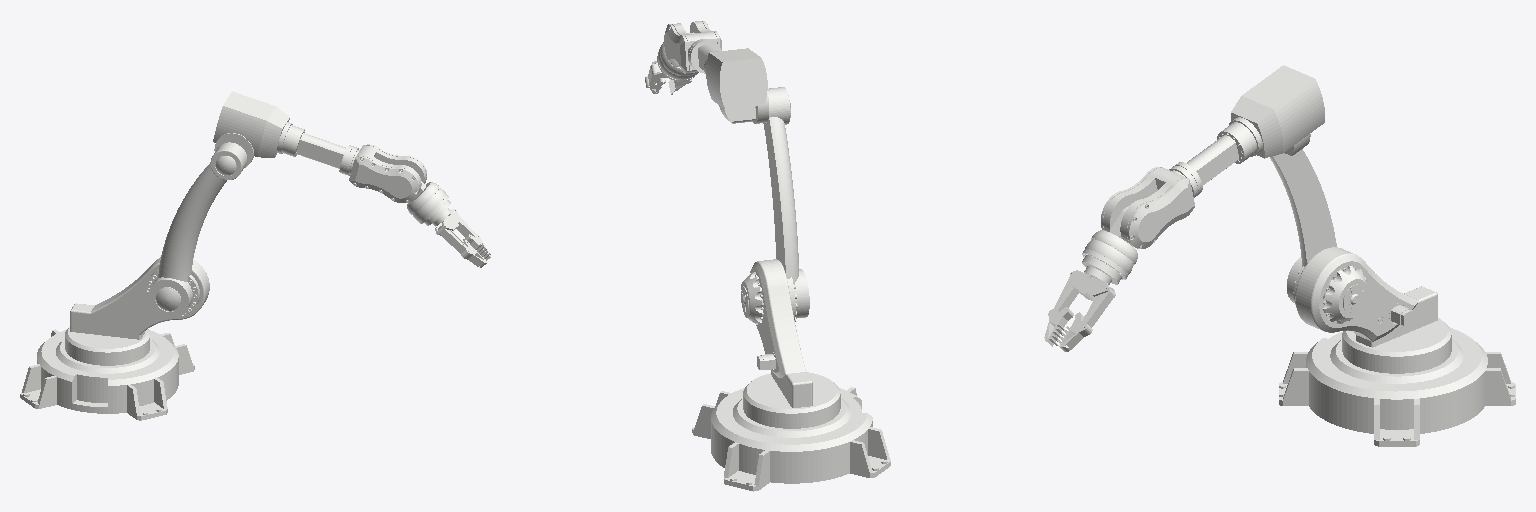
URDF robot description (robotic_arm):
<?xml version="1.0"?>
<robot name="robotic_arm">

  <!-- Materials -->
  <material name="ABS_Plastic">
    <color rgba="0.965 0.965 0.953 1.0"/>
  </material>

  <link name="base_link">
    <inertial>
      <origin xyz="0.795447 0.614307 -0.087295" rpy="0 0 0"/>
      <mass value="6.119698"/>
      <inertia ixx="3.870592e-02" ixy="8.476438e-04" ixz="-4.377918e-05"
               iyy="3.870592e-02" iyz="-4.377918e-05" izz="7.067362e-02"/>
    </inertial>
    <visual>
      <origin xyz="0.000000 0.000000 0.000000" rpy="0 0 0"/>
      <geometry>
        <mesh filename="package://robotic_arm_description/meshes/robotic_arm/base_link.dae" scale="1 1 1"/>
      </geometry>
      <material name="ABS_Plastic"/>
    </visual>
    <collision>
      <origin xyz="0.000000 0.000000 0.000000" rpy="0 0 0"/>
      <geometry>
        <mesh filename="package://robotic_arm_description/meshes/robotic_arm/base_link_collision.stl" scale="0.01 0.01 0.01"/>
      </geometry>
    </collision>
  </link>

  <link name="JAW">
    <inertial>
      <origin xyz="0.059058 0.084791 -0.003955" rpy="0 0 0"/>
      <mass value="2.532640"/>
      <inertia ixx="1.314744e-02" ixy="-1.001874e-02" ixz="6.590987e-04"
               iyy="1.786158e-02" iyz="5.945330e-04" izz="2.615029e-02"/>
    </inertial>
    <visual>
      <origin xyz="-0.418682 -0.888702 -0.224715" rpy="0 0 0"/>
      <geometry>
        <mesh filename="package://robotic_arm_description/meshes/robotic_arm/JAW.dae" scale="1 1 1"/>
      </geometry>
      <material name="ABS_Plastic"/>
    </visual>
    <collision>
      <origin xyz="-0.418682 -0.888702 -0.224715" rpy="0 0 0"/>
      <geometry>
        <mesh filename="package://robotic_arm_description/meshes/robotic_arm/JAW_collision.stl" scale="0.01 0.01 0.01"/>
      </geometry>
    </collision>
  </link>

  <link name="JAW_2">
    <inertial>
      <origin xyz="-0.147018 -0.011210 0.016599" rpy="0 0 0"/>
      <mass value="1.025094"/>
      <inertia ixx="7.003861e-04" ixy="-2.973266e-04" ixz="-1.025022e-05"
               iyy="1.951474e-02" iyz="-2.693467e-05" izz="1.990601e-02"/>
    </inertial>
    <visual>
      <origin xyz="-1.200000 -0.000000 -0.000000" rpy="0 0 0"/>
      <geometry>
        <mesh filename="package://robotic_arm_description/meshes/robotic_arm/JAW_2.dae" scale="1 1 1"/>
      </geometry>
      <material name="ABS_Plastic"/>
    </visual>
    <collision>
      <origin xyz="-1.200000 -0.000000 -0.000000" rpy="0 0 0"/>
      <geometry>
        <mesh filename="package://robotic_arm_description/meshes/robotic_arm/JAW_2_collision.stl" scale="0.01 0.01 0.01"/>
      </geometry>
    </collision>
  </link>

  <link name="JAW_3">
    <inertial>
      <origin xyz="0.046361 -0.044012 0.039243" rpy="0 0 0"/>
      <mass value="1.538177"/>
      <inertia ixx="9.058945e-03" ixy="1.109815e-04" ixz="-1.328284e-04"
               iyy="2.055125e-03" iyz="3.897745e-04" izz="8.638996e-03"/>
    </inertial>
    <visual>
      <origin xyz="0.048000 -0.650000 0.045000" rpy="0 0 0"/>
      <geometry>
        <mesh filename="package://robotic_arm_description/meshes/robotic_arm/JAW_3.dae" scale="1 1 1"/>
      </geometry>
      <material name="ABS_Plastic"/>
    </visual>
    <collision>
      <origin xyz="0.048000 -0.650000 0.045000" rpy="0 0 0"/>
      <geometry>
        <mesh filename="package://robotic_arm_description/meshes/robotic_arm/JAW_3_collision.stl" scale="0.01 0.01 0.01"/>
      </geometry>
    </collision>
  </link>

  <link name="JAW_4">
    <inertial>
      <origin xyz="-0.000029 0.069514 -0.000000" rpy="0 0 0"/>
      <mass value="0.617822"/>
      <inertia ixx="1.472032e-03" ixy="-3.575882e-07" ixz="-5.823409e-11"
               iyy="6.025998e-04" iyz="-2.335244e-09" izz="1.633041e-03"/>
    </inertial>
    <visual>
      <origin xyz="-0.500000 0.000000 0.000000" rpy="0 0 0"/>
      <geometry>
        <mesh filename="package://robotic_arm_description/meshes/robotic_arm/JAW_4.dae" scale="1 1 1"/>
      </geometry>
      <material name="ABS_Plastic"/>
    </visual>
    <collision>
      <origin xyz="-0.500000 0.000000 0.000000" rpy="0 0 0"/>
      <geometry>
        <mesh filename="package://robotic_arm_description/meshes/robotic_arm/JAW_4_collision.stl" scale="0.01 0.01 0.01"/>
      </geometry>
    </collision>
  </link>

  <link name="JAW_5">
    <inertial>
      <origin xyz="0.058831 0.021840 -0.000000" rpy="0 0 0"/>
      <mass value="0.354722"/>
      <inertia ixx="2.554987e-04" ixy="-3.330502e-06" ixz="-4.770490e-18"
               iyy="3.739993e-04" iyz="-6.572976e-19" izz="3.704189e-04"/>
    </inertial>
    <visual>
      <origin xyz="0.042000 0.022000 -0.600000" rpy="0 0 0"/>
      <geometry>
        <mesh filename="package://robotic_arm_description/meshes/robotic_arm/JAW_5.dae" scale="1 1 1"/>
      </geometry>
      <material name="ABS_Plastic"/>
    </visual>
    <collision>
      <origin xyz="0.042000 0.022000 -0.600000" rpy="0 0 0"/>
      <geometry>
        <mesh filename="package://robotic_arm_description/meshes/robotic_arm/JAW_5_collision.stl" scale="0.01 0.01 0.01"/>
      </geometry>
    </collision>
  </link>

  <link name="JAW_6">
    <inertial>
      <origin xyz="0.000000 0.016350 0.000000" rpy="0 0 0"/>
      <mass value="0.081068"/>
      <inertia ixx="3.412891e-05" ixy="2.168046e-15" ixz="4.820322e-20"
               iyy="4.256513e-05" iyz="-8.224378e-21" izz="4.058668e-05"/>
    </inertial>
    <visual>
      <origin xyz="0.000000 0.000000 0.000000" rpy="0 0 0"/>
      <geometry>
        <mesh filename="package://robotic_arm_description/meshes/robotic_arm/JAW_6.dae" scale="1 1 1"/>
      </geometry>
      <material name="ABS_Plastic"/>
    </visual>
    <collision>
      <origin xyz="0.000000 0.000000 0.000000" rpy="0 0 0"/>
      <geometry>
        <mesh filename="package://robotic_arm_description/meshes/robotic_arm/JAW_6_collision.stl" scale="0.01 0.01 0.01"/>
      </geometry>
    </collision>
  </link>

  <link name="JAW_7">
    <inertial>
      <origin xyz="0.008937 0.012769 -0.052878" rpy="0 0 0"/>
      <mass value="0.041524"/>
      <inertia ixx="4.990394e-05" ixy="5.252600e-08" ixz="-1.089245e-07"
               iyy="4.782931e-05" iyz="6.734330e-06" izz="4.334183e-06"/>
    </inertial>
    <visual>
      <origin xyz="0.009000 -0.014591 0.102853" rpy="0 0 0"/>
      <geometry>
        <mesh filename="package://robotic_arm_description/meshes/robotic_arm/JAW_7.dae" scale="1 1 1"/>
      </geometry>
      <material name="ABS_Plastic"/>
    </visual>
    <collision>
      <origin xyz="0.009000 -0.014591 0.102853" rpy="0 0 0"/>
      <geometry>
        <mesh filename="package://robotic_arm_description/meshes/robotic_arm/JAW_7_collision.stl" scale="0.01 0.01 0.01"/>
      </geometry>
    </collision>
  </link>

  <link name="JAW_8">
    <inertial>
      <origin xyz="-0.009063 0.012769 -0.052878" rpy="0 0 0"/>
      <mass value="0.041524"/>
      <inertia ixx="4.990394e-05" ixy="5.252600e-08" ixz="-1.089245e-07"
               iyy="4.782931e-05" iyz="6.734330e-06" izz="4.334183e-06"/>
    </inertial>
    <visual>
      <origin xyz="-0.703237 -1.331835 -0.607276" rpy="0 0 0"/>
      <geometry>
        <mesh filename="package://robotic_arm_description/meshes/robotic_arm/JAW_8.dae" scale="1 1 1"/>
      </geometry>
      <material name="ABS_Plastic"/>
    </visual>
    <collision>
      <origin xyz="-0.703237 -1.331835 -0.607276" rpy="0 0 0"/>
      <geometry>
        <mesh filename="package://robotic_arm_description/meshes/robotic_arm/JAW_8_collision.stl" scale="0.01 0.01 0.01"/>
      </geometry>
    </collision>
  </link>

  <joint name="Revolute_1" type="revolute">
    <parent link="base_link"/>
    <child link="JAW"/>
    <origin xyz="0.794021 0.612882 -0.042003" rpy="1.570796 -0.000000 -0.788864"/>
    <axis xyz="-0.000000 -1.000000 -0.000000"/>
    <limit lower="0.000000" upper="6.283185" effort="100.0" velocity="1.00"/>
  </joint>

  <joint name="Revolute_2" type="continuous">
    <parent link="JAW"/>
    <child link="JAW_2"/>
    <origin xyz="0.150000 0.160000 0.020000" rpy="-0.000000 -0.000000 -1.939557"/>
    <axis xyz="-0.000000 0.000000 -1.000000"/>
    <limit effort="100.0" velocity="1.00"/>
  </joint>

  <joint name="Revolute_3" type="continuous">
    <parent link="JAW_2"/>
    <child link="JAW_3"/>
    <origin xyz="-0.365000 0.000000 -0.000000" rpy="3.014035 1.570796 0.000000"/>
    <axis xyz="-1.000000 0.000000 -0.000000"/>
    <limit effort="100.0" velocity="1.00"/>
  </joint>

  <joint name="Revolute_4" type="revolute">
    <parent link="JAW_3"/>
    <child link="JAW_4"/>
    <origin xyz="0.048000 -0.246000 0.045000" rpy="0.000000 0.000000 3.141593"/>
    <axis xyz="0.000000 -1.000000 0.000000"/>
    <limit lower="0.000000" upper="0.000000" effort="100.0" velocity="1.00"/>
  </joint>

  <joint name="Revolute_5" type="continuous">
    <parent link="JAW_4"/>
    <child link="JAW_5"/>
    <origin xyz="0.022000 0.115000 -0.000000" rpy="0.000000 0.523599 1.570796"/>
    <axis xyz="-0.000000 -1.000000 -0.000000"/>
    <limit effort="100.0" velocity="1.00"/>
  </joint>

  <joint name="Revolute_6" type="revolute">
    <parent link="JAW_5"/>
    <child link="JAW_6"/>
    <origin xyz="0.094000 0.022000 0.000000" rpy="-0.000000 0.000000 -1.570796"/>
    <axis xyz="0.000000 -1.000000 0.000000"/>
    <limit lower="0.000000" upper="0.000000" effort="100.0" velocity="1.00"/>
  </joint>

  <joint name="Revolute_7" type="continuous">
    <parent link="JAW_6"/>
    <child link="JAW_7"/>
    <origin xyz="-0.042310 0.032892 0.009000" rpy="1.570796 1.570796 0.000000"/>
    <axis xyz="-1.000000 -0.000000 -0.000000"/>
    <limit effort="100.0" velocity="1.00"/>
  </joint>

  <joint name="Revolute_8" type="continuous">
    <parent link="JAW_6"/>
    <child link="JAW_8"/>
    <origin xyz="0.040810 0.032892 0.009000" rpy="1.570796 -1.570796 0.000000"/>
    <axis xyz="1.000000 0.000000 0.000000"/>
    <limit effort="100.0" velocity="1.00"/>
  </joint>

  <!-- ROS 2 control: generated generic system -->
  <ros2_control name="robotic_arm_system" type="system">
    <hardware>
      <plugin>mock_components/GenericSystem</plugin>
      <param name="cmd_topic">sim/robotic_arm_system/cmd</param>
      <param name="state_topic">sim/robotic_arm_system/state</param>
    </hardware>

    <joint name="Revolute_1">
      <command_interface name="position"/>
      <command_interface name="velocity"/>
      <state_interface name="position">
        <param name="initial_value">0.0</param>
      </state_interface>
      <state_interface name="velocity"/>
      <state_interface name="effort"/>
    </joint>
    <joint name="Revolute_2">
      <command_interface name="position"/>
      <command_interface name="velocity"/>
      <state_interface name="position">
        <param name="initial_value">0.0</param>
      </state_interface>
      <state_interface name="velocity"/>
      <state_interface name="effort"/>
    </joint>
    <joint name="Revolute_3">
      <command_interface name="position"/>
      <command_interface name="velocity"/>
      <state_interface name="position">
        <param name="initial_value">0.0</param>
      </state_interface>
      <state_interface name="velocity"/>
      <state_interface name="effort"/>
    </joint>
    <joint name="Revolute_4">
      <command_interface name="position"/>
      <command_interface name="velocity"/>
      <state_interface name="position">
        <param name="initial_value">0.0</param>
      </state_interface>
      <state_interface name="velocity"/>
      <state_interface name="effort"/>
    </joint>
    <joint name="Revolute_5">
      <command_interface name="position"/>
      <command_interface name="velocity"/>
      <state_interface name="position">
        <param name="initial_value">0.0</param>
      </state_interface>
      <state_interface name="velocity"/>
      <state_interface name="effort"/>
    </joint>
    <joint name="Revolute_6">
      <command_interface name="position"/>
      <command_interface name="velocity"/>
      <state_interface name="position">
        <param name="initial_value">0.0</param>
      </state_interface>
      <state_interface name="velocity"/>
      <state_interface name="effort"/>
    </joint>
    <joint name="Revolute_7">
      <command_interface name="position"/>
      <command_interface name="velocity"/>
      <state_interface name="position">
        <param name="initial_value">0.0</param>
      </state_interface>
      <state_interface name="velocity"/>
      <state_interface name="effort"/>
    </joint>
    <joint name="Revolute_8">
      <command_interface name="position"/>
      <command_interface name="velocity"/>
      <state_interface name="position">
        <param name="initial_value">0.0</param>
      </state_interface>
      <state_interface name="velocity"/>
      <state_interface name="effort"/>
    </joint>
  </ros2_control>

</robot>

--- Facts derived from the render (not from the file) ---
The picture shows the robot from 3 angles, left to right: view 1: azimuth 30°, elevation 25°; view 2: azimuth 150°, elevation 25°; view 3: azimuth 270°, elevation 25°; orthographic projection.
Model robotic_arm with 9 links and 8 joints (3 revolute, 5 continuous), rooted at base_link, posed every joint at zero.
Links seen in each view (by area): view 1: base_link, JAW, JAW_2, JAW_3, JAW_4, JAW_5, JAW_8, JAW_6; view 2: base_link, JAW, JAW_2, JAW_3, JAW_4, JAW_5; view 3: base_link, JAW, JAW_3, JAW_4, JAW_2, JAW_5, JAW_6, JAW_7, JAW_8.
Boxes of the visible links, x1=… form: base_link: x1=20, y1=329, x2=194, y2=420; JAW: x1=65, y1=257, x2=209, y2=365; JAW_2: x1=146, y1=142, x2=246, y2=317; JAW_3: x1=213, y1=91, x2=358, y2=175; JAW_4: x1=349, y1=144, x2=426, y2=202; JAW_5: x1=407, y1=181, x2=448, y2=223; JAW_8: x1=437, y1=225, x2=487, y2=267; JAW_6: x1=425, y1=200, x2=459, y2=235; base_link: x1=692, y1=387, x2=890, y2=491; JAW: x1=741, y1=259, x2=840, y2=428; JAW_2: x1=763, y1=87, x2=809, y2=321; JAW_3: x1=688, y1=39, x2=768, y2=123; JAW_4: x1=664, y1=21, x2=721, y2=73; JAW_5: x1=657, y1=32, x2=698, y2=81; base_link: x1=1279, y1=328, x2=1515, y2=446; JAW: x1=1295, y1=247, x2=1451, y2=373; JAW_3: x1=1169, y1=65, x2=1324, y2=197; JAW_4: x1=1101, y1=167, x2=1194, y2=248; JAW_2: x1=1270, y1=149, x2=1336, y2=304; JAW_5: x1=1082, y1=206, x2=1137, y2=279; JAW_6: x1=1070, y1=257, x2=1120, y2=300; JAW_7: x1=1057, y1=288, x2=1114, y2=351; JAW_8: x1=1044, y1=277, x2=1079, y2=346.
Size in the robot's own frame: 0.813 by 0.7762 by 0.6838 metres.
9 mesh visuals loaded from 9 distinct referenced files (9 Collada DAE).
